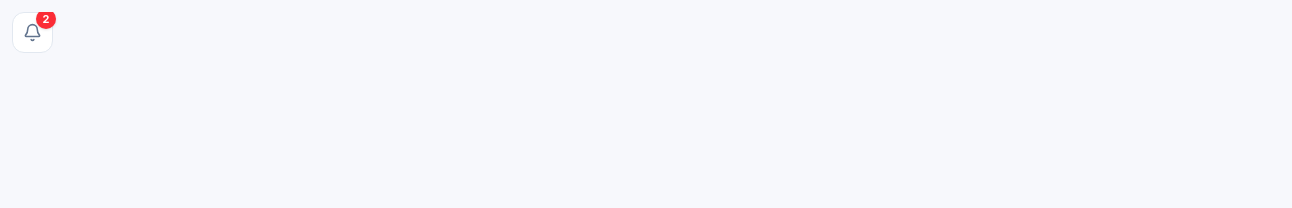
Test: Phase 6 Frontend Components › NotificationsDropdown Component › marks all notifications as read on click
Later steps or results of the test are not shown.
Click the button named "notifications" at point(32, 32), box [12,12,53,53]
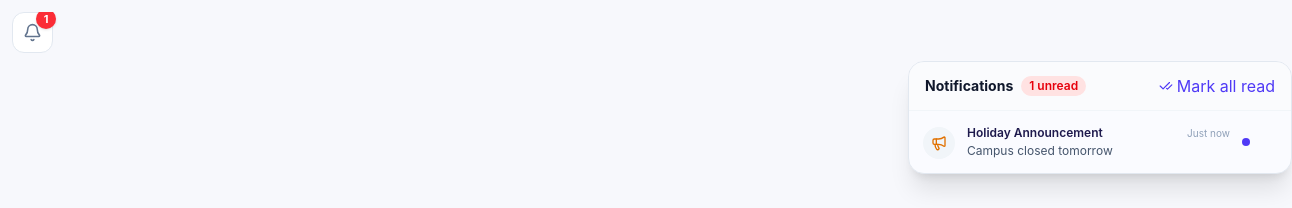
Check: the button "Mark all read" is shown, box [1159,74,1275,98]
